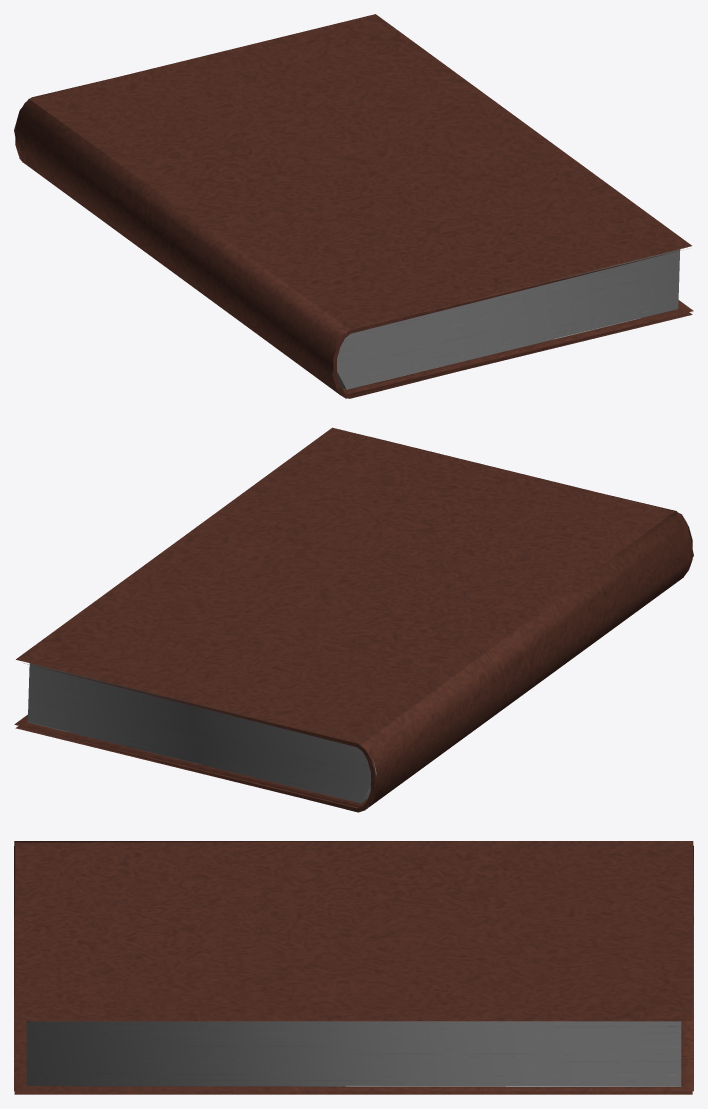
3 views of the same model, one above another, from view 1: azimuth 30°, elevation 25°; view 2: azimuth 150°, elevation 25°; view 3: azimuth 270°, elevation 25° (orthographic). The views are drawn at different scales.
Visible parts, largest first — view 1: Cube, Cube.001; view 2: Cube, Cube.001; view 3: Cube, Cube.001.
Part boxes in pixels (box(x1,y1,x2,y2)): Cube: box(14, 14, 693, 398); Cube.001: box(332, 249, 680, 389); Cube: box(14, 427, 693, 812); Cube.001: box(27, 663, 376, 803); Cube: box(14, 841, 693, 1094); Cube.001: box(26, 1021, 681, 1086).
Size of the model in its own units: 105 by 19.08 by 160.
2 materials, 2 textured.
